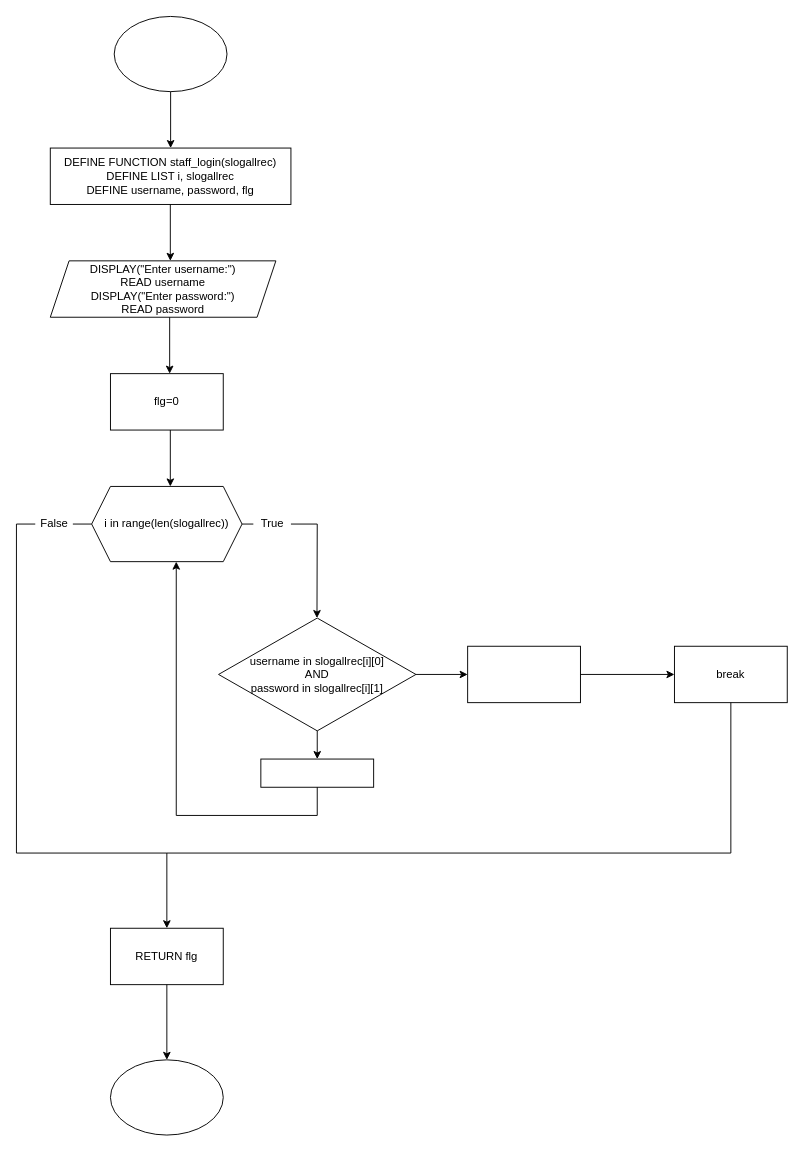
The diagram is 804 pixels wide and 1152 high, and some of its shapes have lost their labels. The shapes that lost their labels are listed below. From the top down, each one's centre as x and y in pixels, then its label:
[170,54]: BEGIN
[523,674]: flg=1
[317,772]: NEXT i
[166,1097]: END
